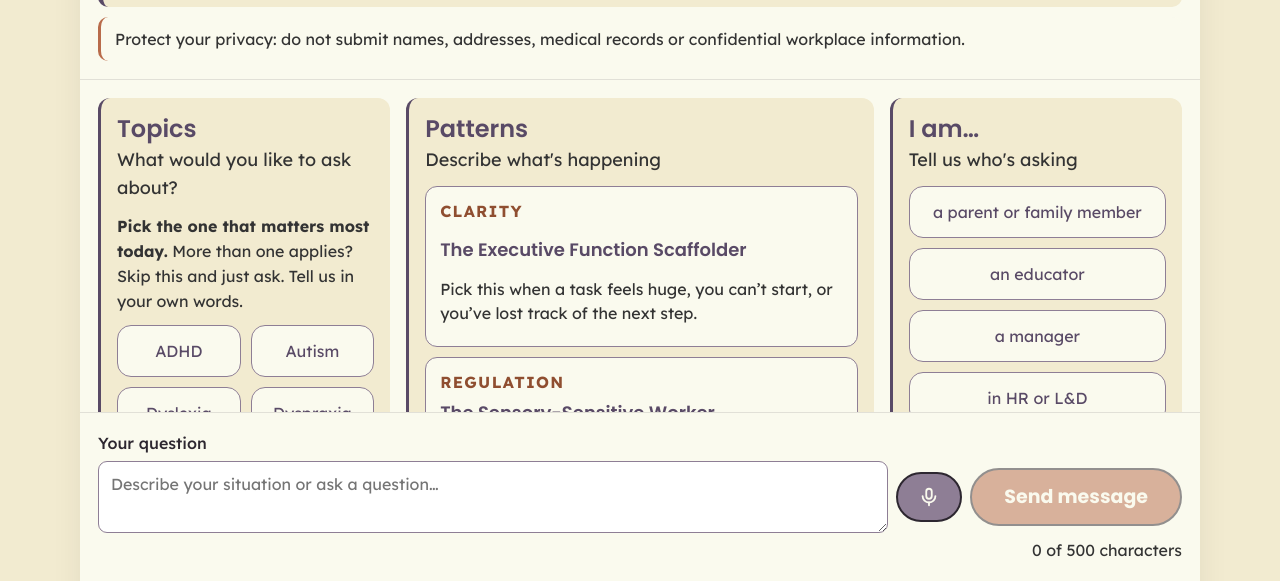
Test case: Ask NeuroThinkHub pilot UI › requires explicit confirmation before Start a blank conversation removes the conversation
The image size is (1280, 581).
Type "My question" into the text box labelled "Your question". click: (493, 497)
box: [98,462,888,533]
Then press Enter
(page scrolled)
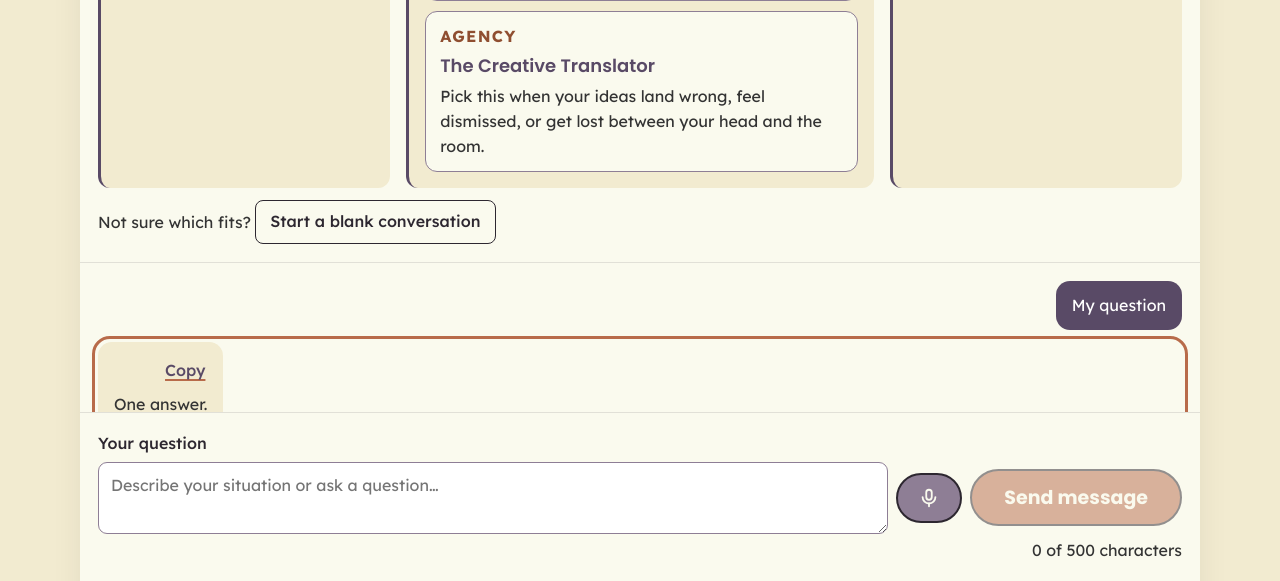
Expected: the text "One answer." is shown, [114,394,207,414]
Click the button "Start a blank conversation". click: (375, 222)
box: [255,200,496,244]
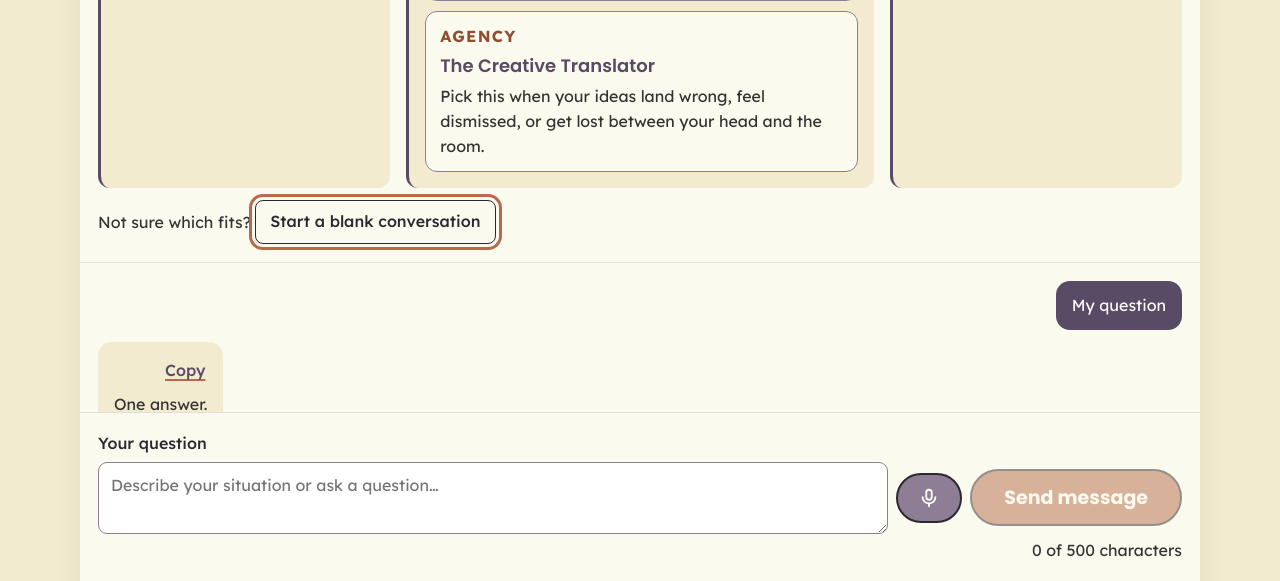
Expected: the text "One answer." is shown, [114,394,207,414]
Click the button "Start a blank conversation". click: (375, 222)
box: [255,200,496,244]
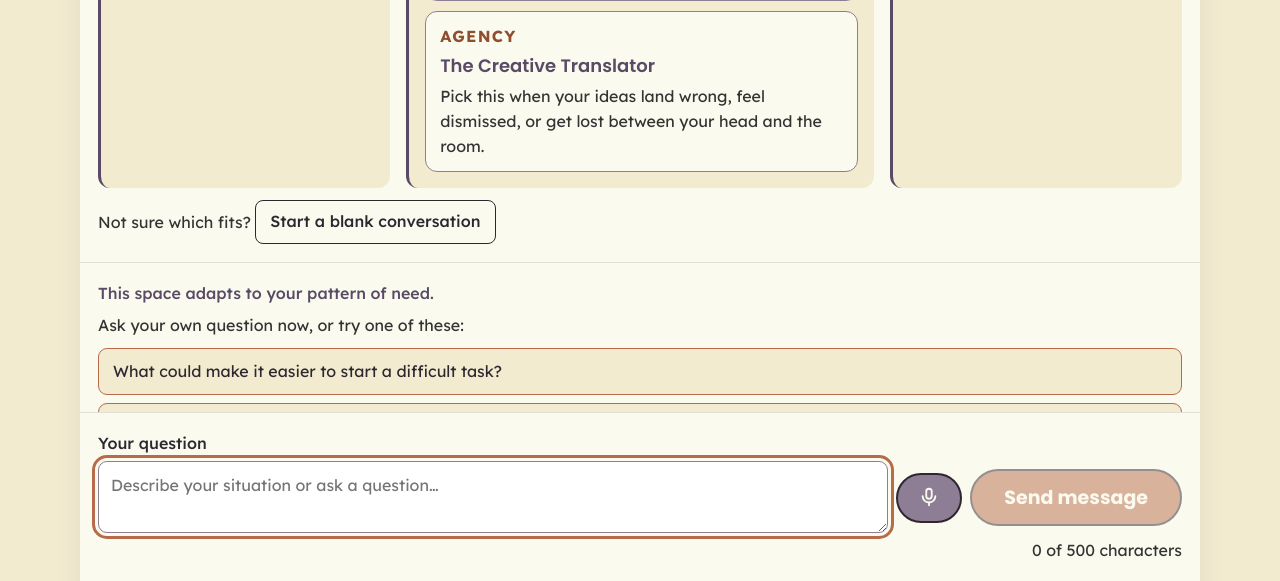
Expected: the text "One answer." is gone
